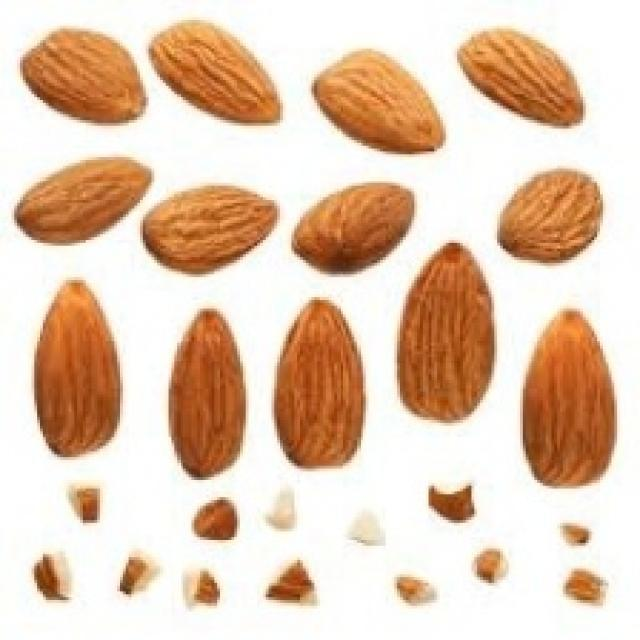almond: (395, 242, 497, 422), (520, 307, 615, 492), (34, 277, 124, 465), (165, 305, 250, 483), (277, 300, 367, 467), (150, 20, 285, 128), (312, 45, 445, 153), (458, 28, 585, 130), (144, 183, 279, 275), (290, 180, 417, 275), (14, 157, 154, 243), (495, 172, 603, 265)
